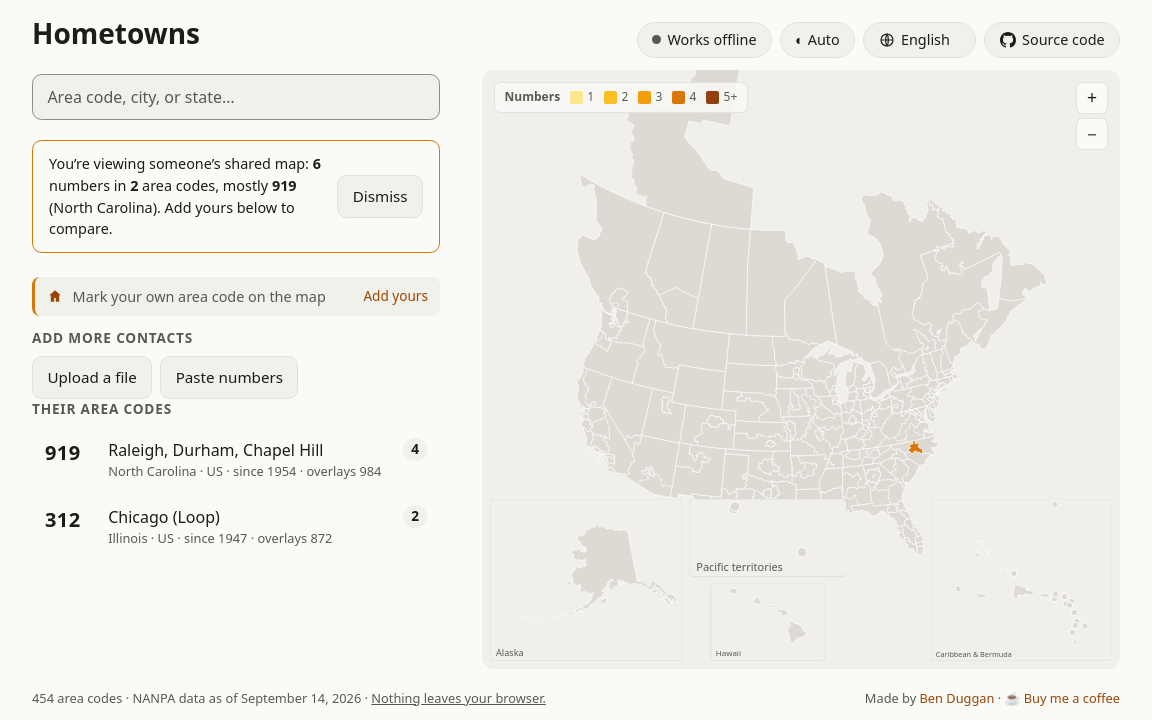
it: App › shows a shared map from the URL hash and compares after import
Expected: the text "viewing someone.s shared map" is shown, top-left (49, 154), bottom-right (313, 173)
Click the button "Paste numbers" at (229, 378), box top-left (160, 356), bottom-right (298, 399)
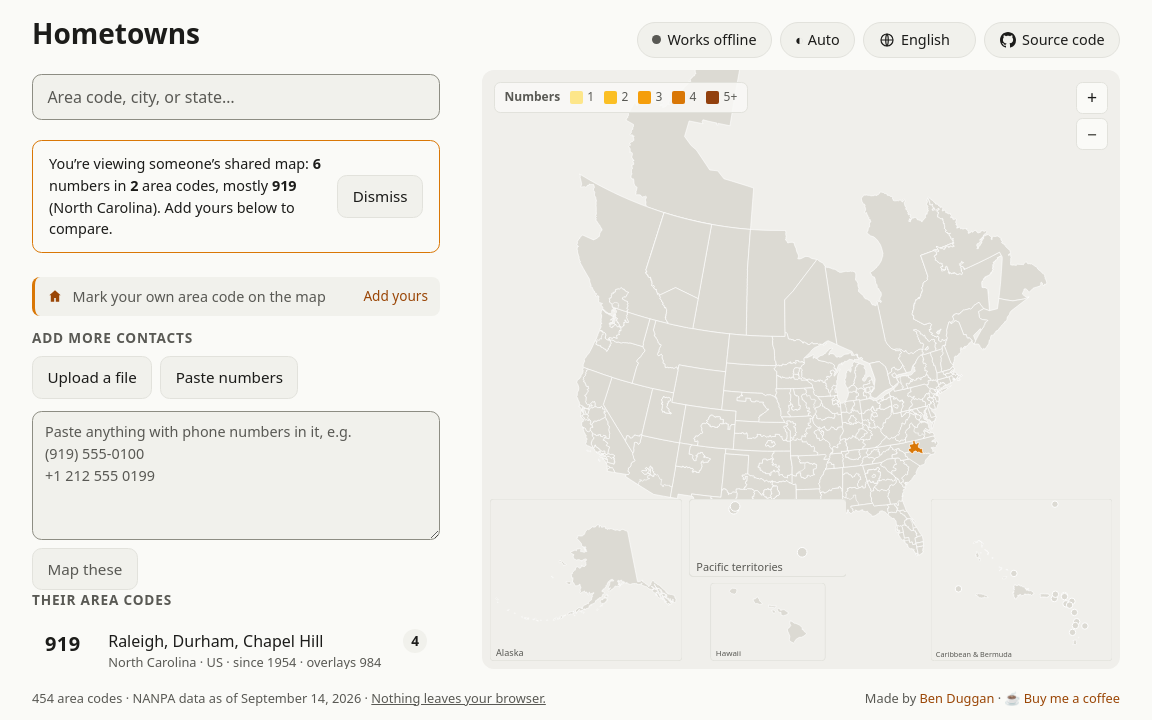
Replace the text in the text box named "Paste phone numbers" with "919-555-0100, 212-555-0100" at (236, 475), box top-left (32, 411), bottom-right (440, 540)
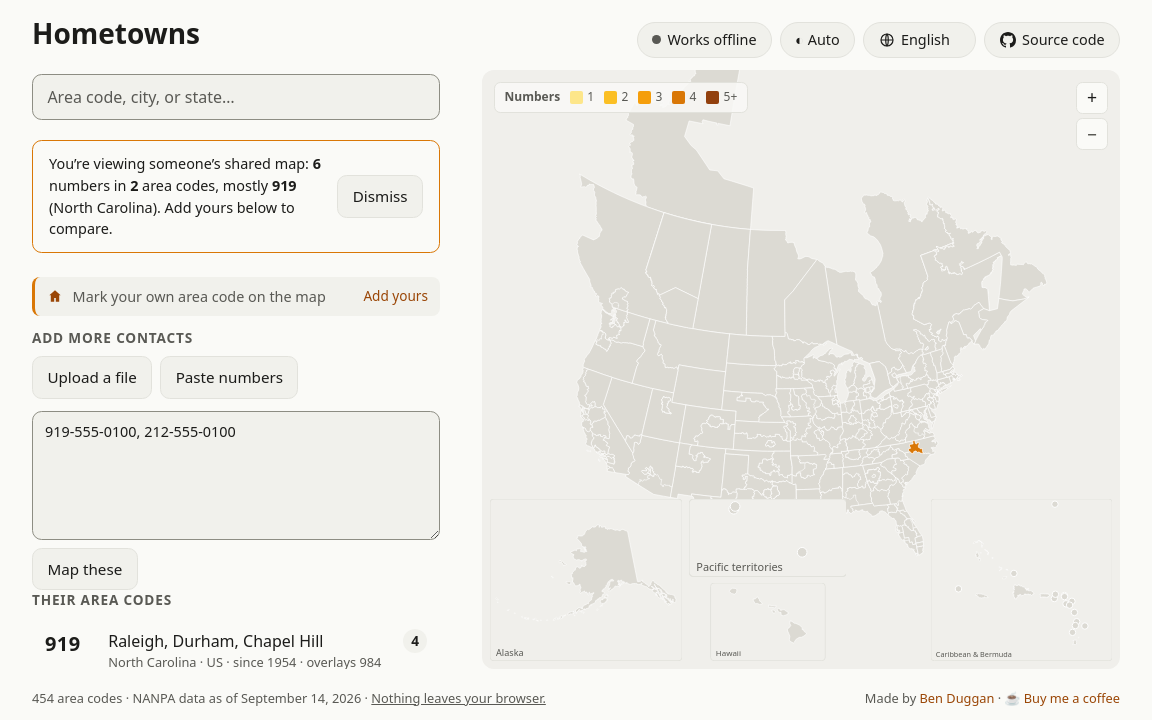
Click the button "Map these" at (85, 569), box top-left (32, 548), bottom-right (138, 590)
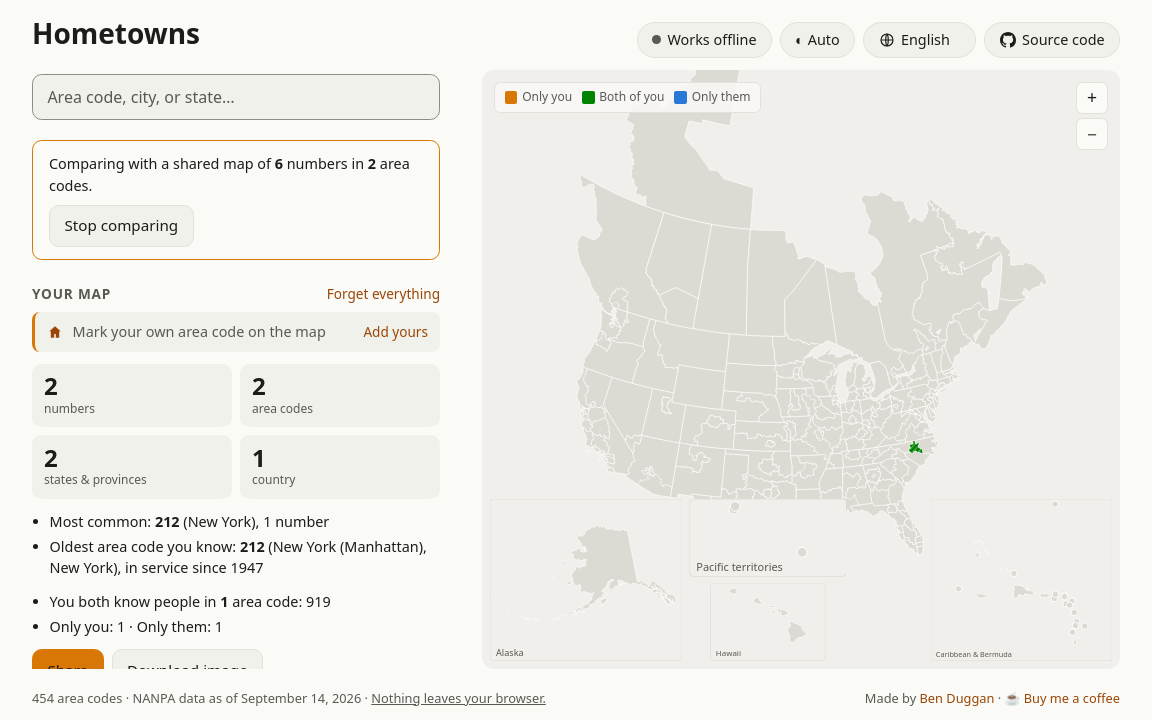
Expected: the text "Comparing with a shared map of 6 numbers in 2 area codes." is shown, top-left (49, 153), bottom-right (423, 197)
Expected: the list item "You both know people in 1 area code: 919" is shown, top-left (50, 592), bottom-right (331, 611)
Click the button "Stop comparing" at (121, 226), box top-left (49, 205), bottom-right (194, 247)
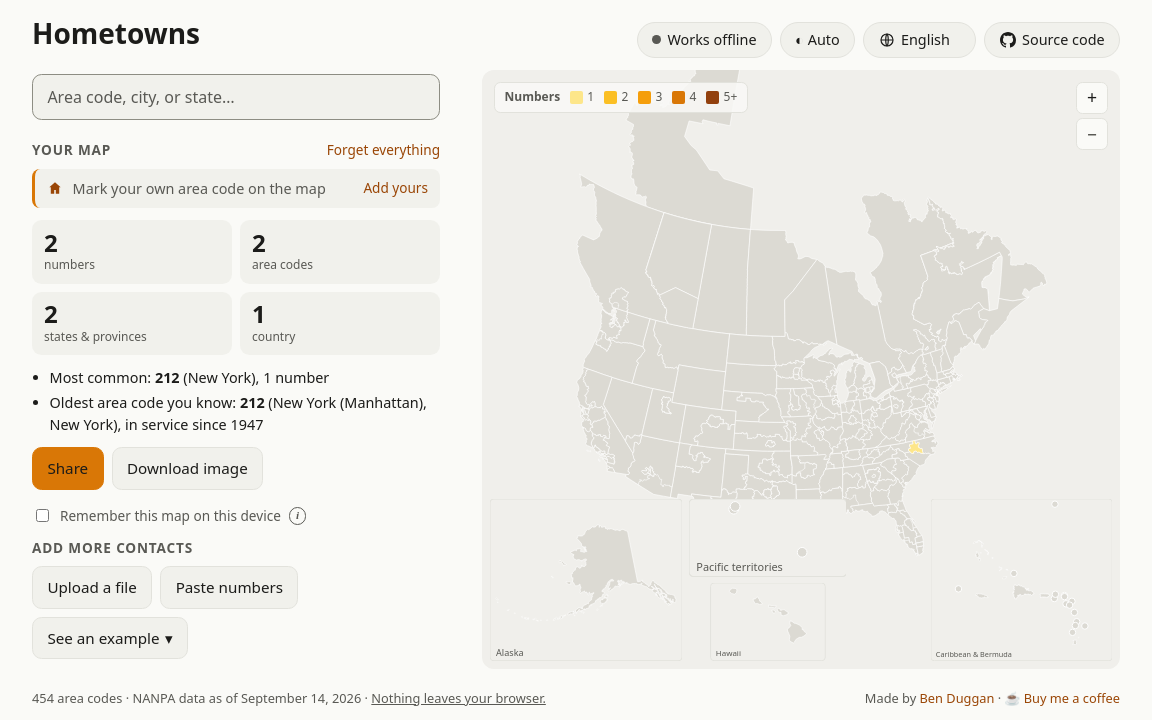
Expected: the text "Comparing with" is gone
